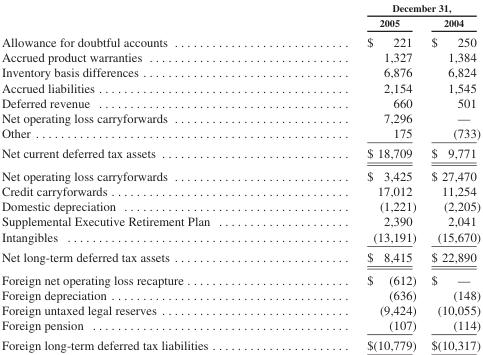table: (0, 1, 479, 351)
table column: (0, 1, 287, 351), (287, 1, 423, 351), (423, 1, 479, 351)
table column header: (0, 1, 479, 31)
table row: (0, 142, 479, 164), (0, 246, 479, 267), (0, 164, 479, 183), (0, 267, 479, 286), (0, 31, 479, 49), (0, 228, 479, 246), (0, 14, 479, 31), (0, 125, 479, 142), (0, 317, 479, 334), (0, 334, 479, 351), (0, 94, 479, 110), (0, 301, 479, 317), (0, 49, 479, 64), (0, 64, 479, 79), (0, 79, 479, 94), (0, 110, 479, 125), (0, 183, 479, 198), (0, 198, 479, 213), (0, 213, 479, 228), (0, 286, 479, 301), (0, 1, 479, 14)
table spanning cell: (287, 1, 479, 14)
